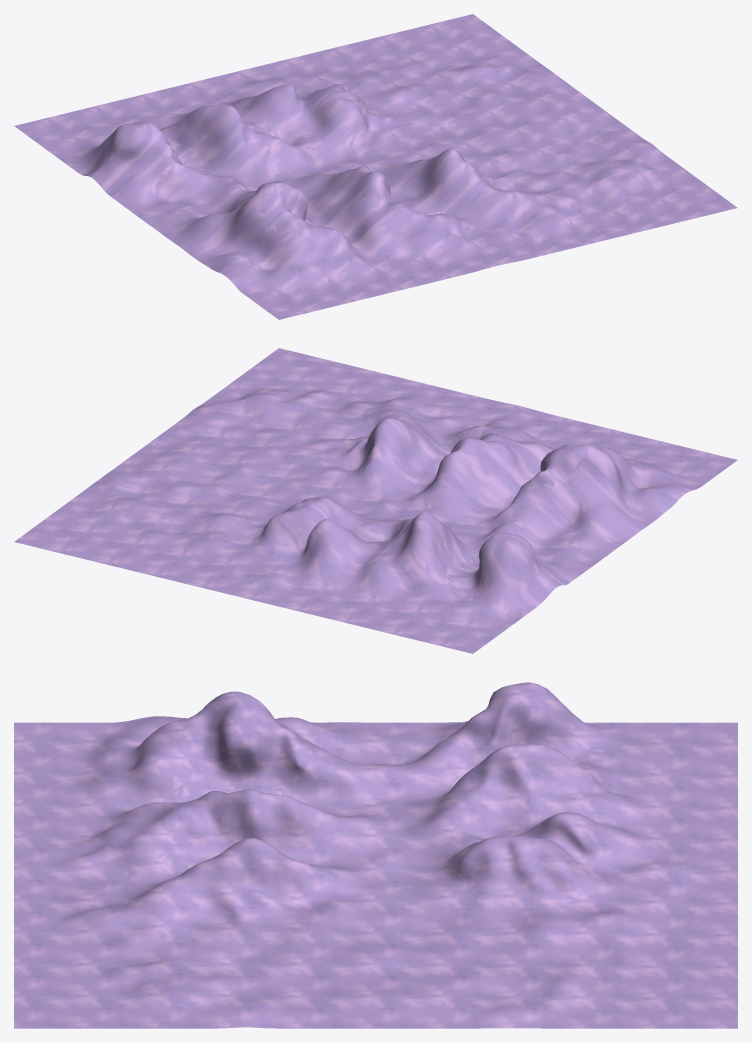
File: LandscapeLiamisnotsmart.fbx
3 renders of one model, top to bottom at view 1: azimuth 30°, elevation 25°; view 2: azimuth 150°, elevation 25°; view 3: azimuth 270°, elevation 25°, orthographic. The views are drawn at different scales.
Visible parts, largest first — view 1: enviroment_9k_optimised:Group35325; view 2: enviroment_9k_optimised:Group35325; view 3: enviroment_9k_optimised:Group35325.
Boxes of the visible parts, x1,y1,x2,y2 form: enviroment_9k_optimised:Group35325: [14, 14, 737, 319]; enviroment_9k_optimised:Group35325: [14, 348, 737, 653]; enviroment_9k_optimised:Group35325: [14, 682, 737, 1028].
Bounding box in the file's own units: 1012 × 118 × 1006.
1 material, 1 textured.
